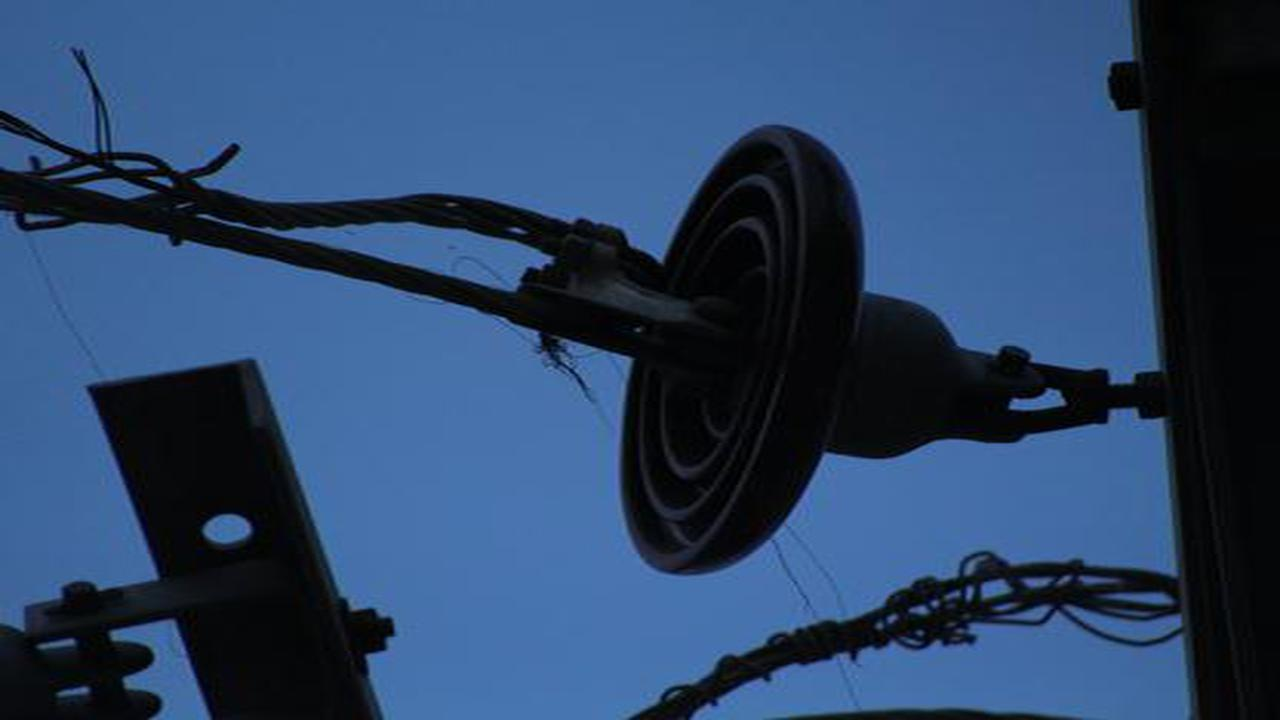insulator_disc: (606, 112, 999, 574)
